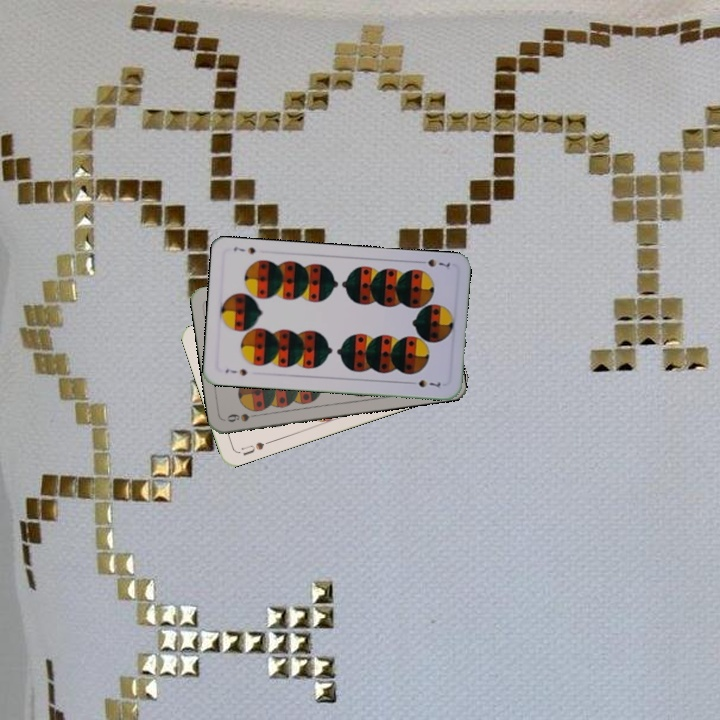S7: (414, 255, 453, 270), (221, 365, 250, 378)
S9: (223, 405, 263, 425)
SU: (237, 436, 274, 458)
